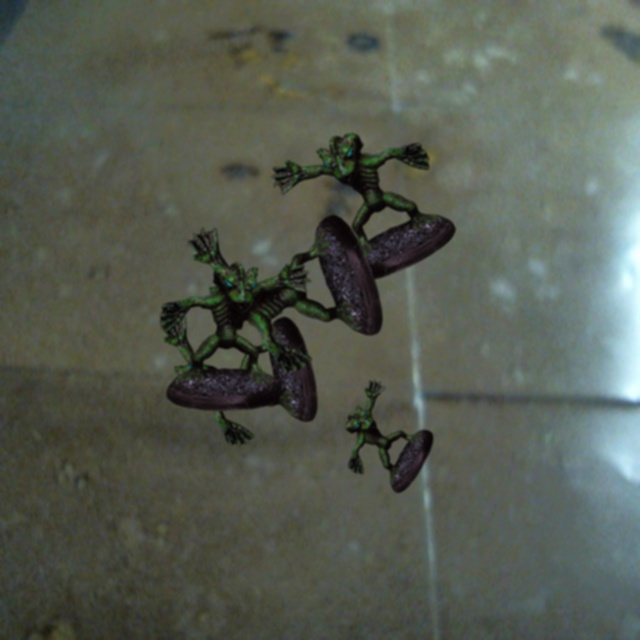pieza_juego: (187, 215, 382, 373), (271, 132, 455, 280), (160, 262, 311, 410), (160, 315, 317, 445), (345, 380, 433, 492)
